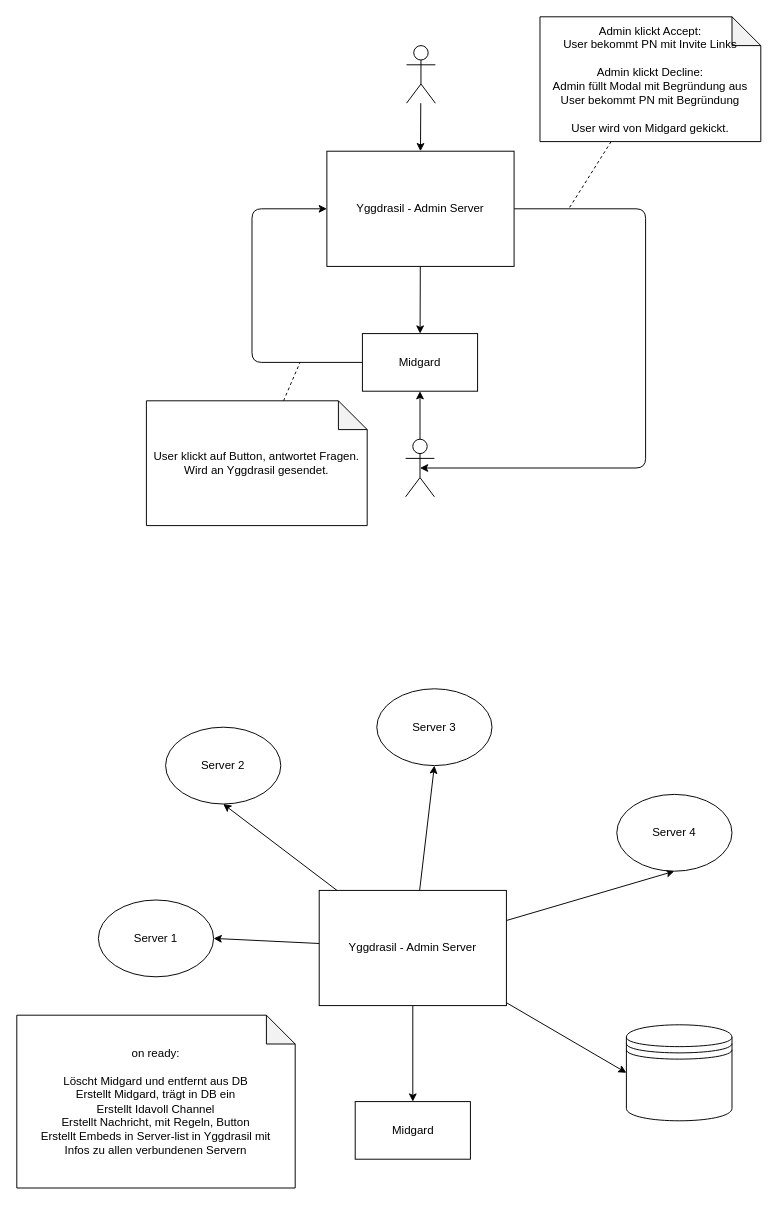
Image size: 778x1205. Some labels were removed from this diagram. The box of each missing label's shape, as (x1, y1, x2, y2) in pixels:
Admin: (406, 45, 435, 103)
Hellheim.db: (625, 1024, 732, 1121)
User: (405, 438, 434, 497)
